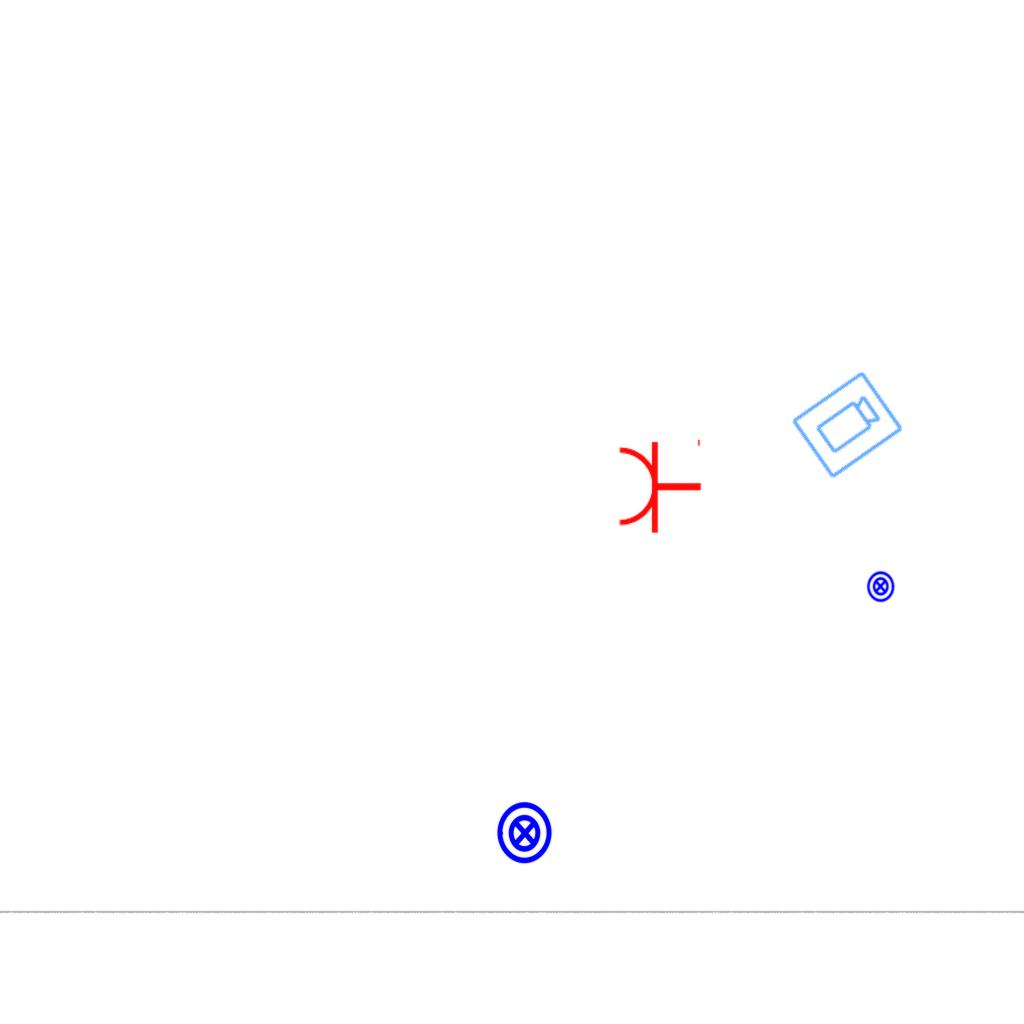KFO_Kamera_mit_Festobjektiv: (788, 367, 907, 484)
Schukosteckdose_einfach: (616, 435, 703, 535)
Taster_beleuchtet: (492, 800, 558, 866), (864, 570, 897, 603)
